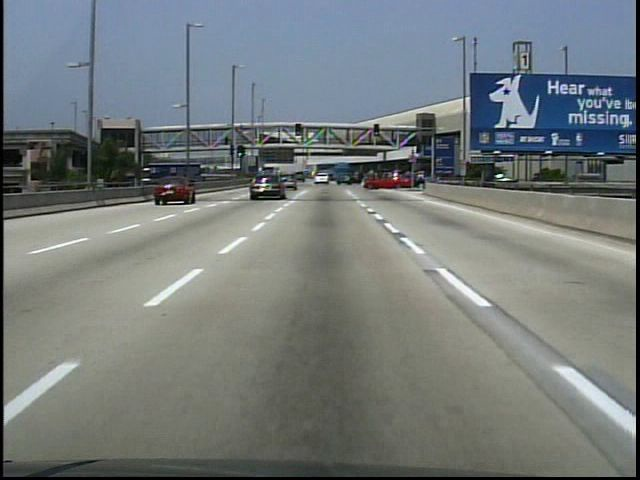person: (224, 136, 229, 148)
